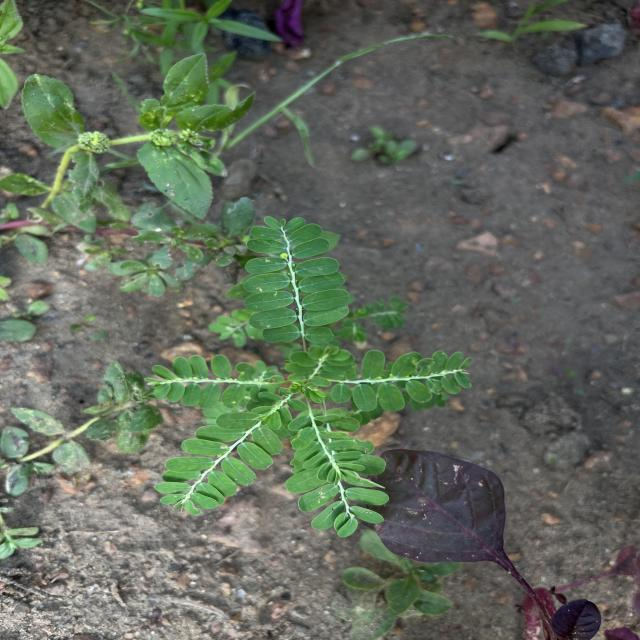Phyllanthus niruri: (242, 210, 354, 346), (154, 407, 286, 518), (288, 406, 392, 538), (328, 346, 480, 414), (142, 352, 284, 412)
